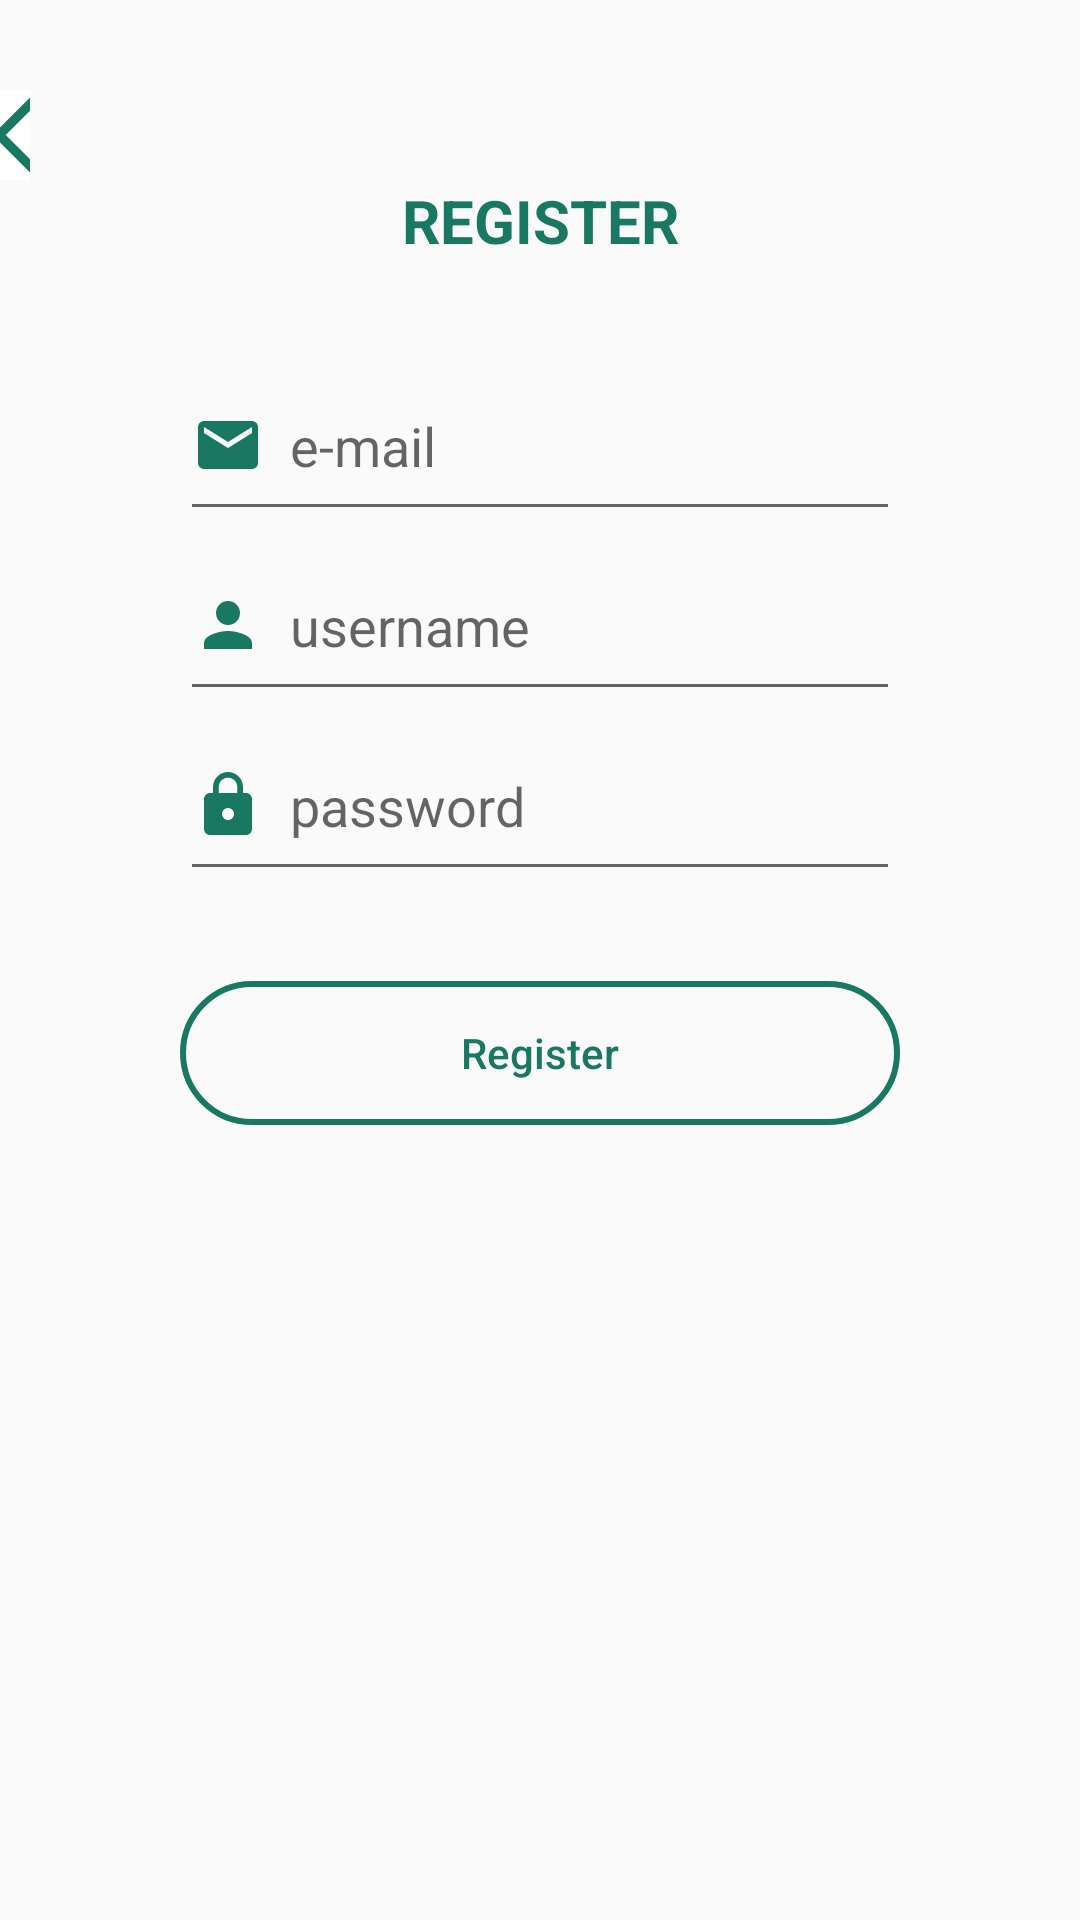

Locate icon controls on the screen. Image size 1080px x 1920px, boxes as Rect(x1, y1, x2, y2).
arrow: Rect(0, 98, 30, 172)
